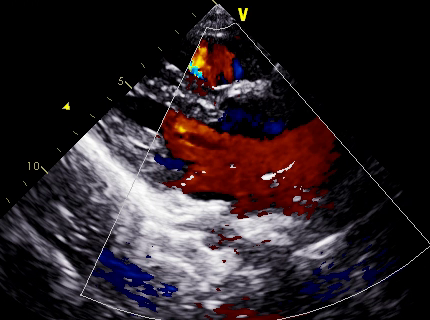AR: (210, 122, 302, 172)
